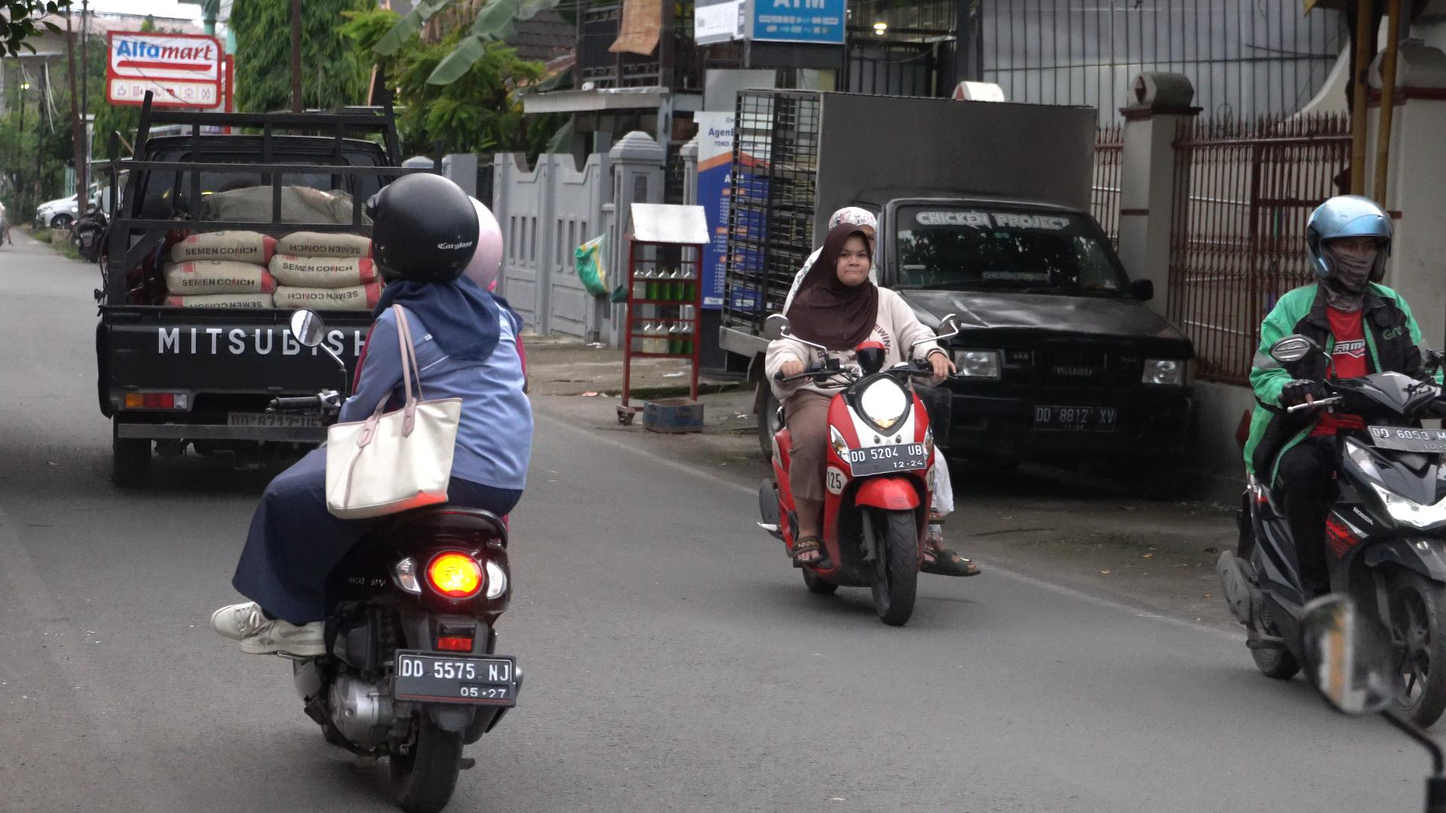number-plate: (845, 441, 930, 480)
